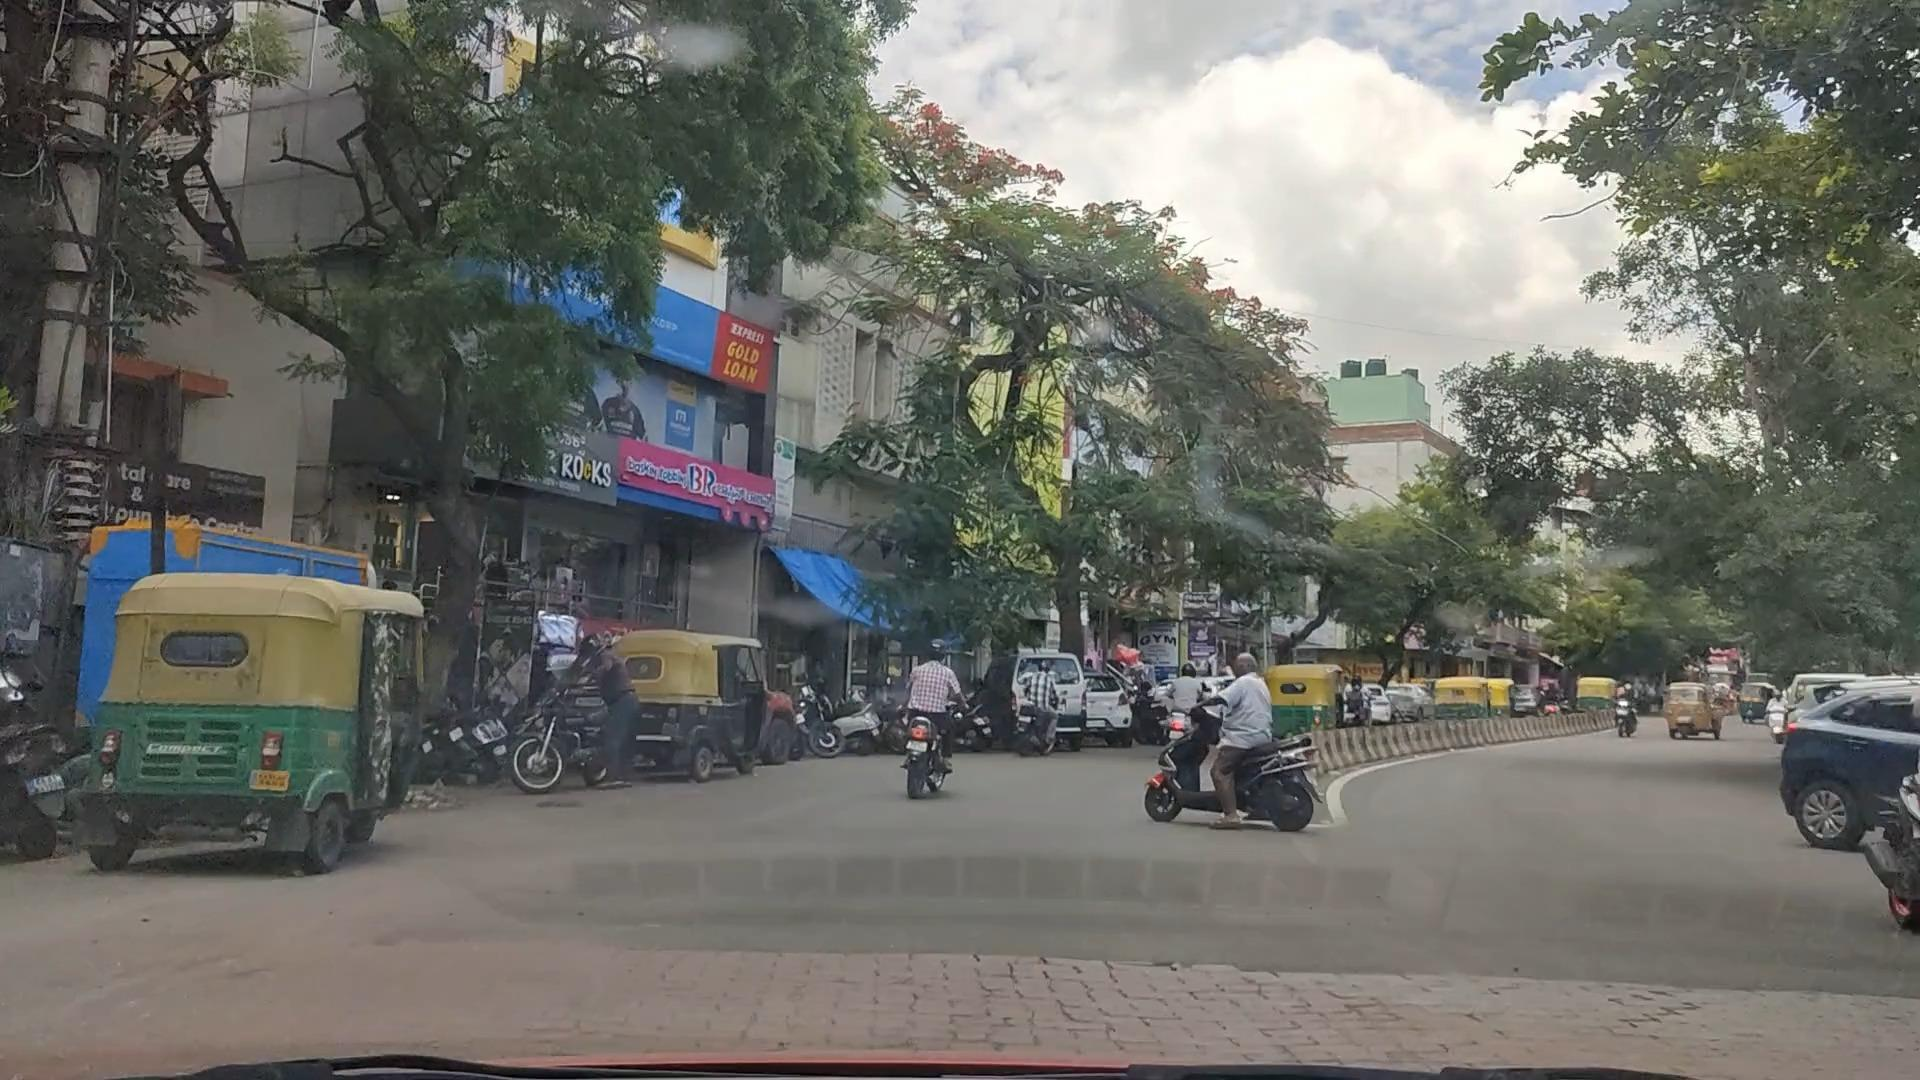LMV: (88, 588, 431, 882), (1135, 669, 1319, 836), (887, 630, 996, 811)
SpeedBump: (148, 926, 1199, 1080)
